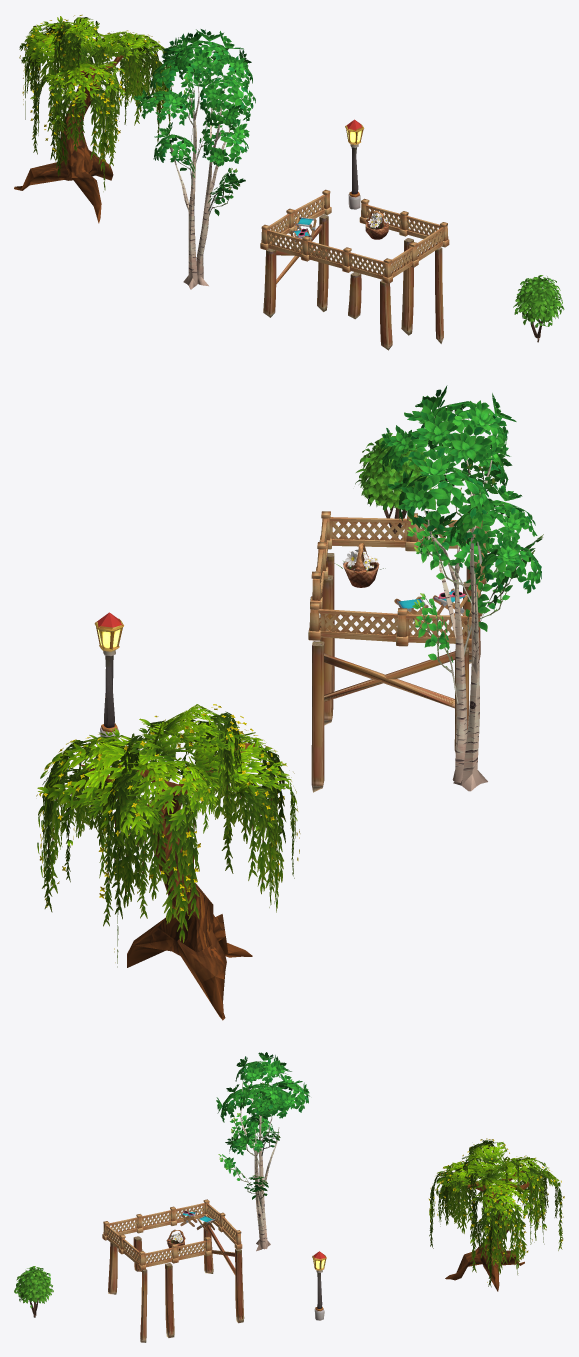
The model's file is Prolecna deo samo Balon deo 8. april.fbx.
3 renders of one model, top to bottom at view 1: azimuth 30°, elevation 25°; view 2: azimuth 150°, elevation 25°; view 3: azimuth 270°, elevation 25°, orthographic. The views are drawn at different scales.
Parts seen in each view (by area): view 1: Balon1; view 2: Balon1; view 3: Balon1.
Boxes of the visible parts, left/top/right/bottom form: Balon1: left=14, top=14, right=564, bottom=350; Balon1: left=36, top=385, right=543, bottom=1020; Balon1: left=14, top=1052, right=564, bottom=1342.
Bounding box in the file's own units: 6.55 × 6.87 × 15.03.
10 materials, 10 textured.
